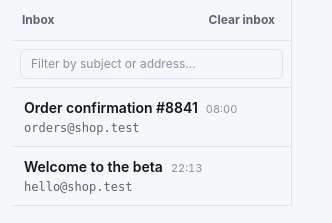
EmailInbox › filters the list by subject
In the field with placeholder "Filter by subject or address…": (152, 64) [20,49,283,79], type "beta"
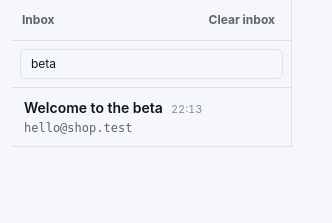
expect the text "Welcome to the beta" is shown: met, box [24,98,163,118]
expect the button "Order confirmation #8841" is gone: met
